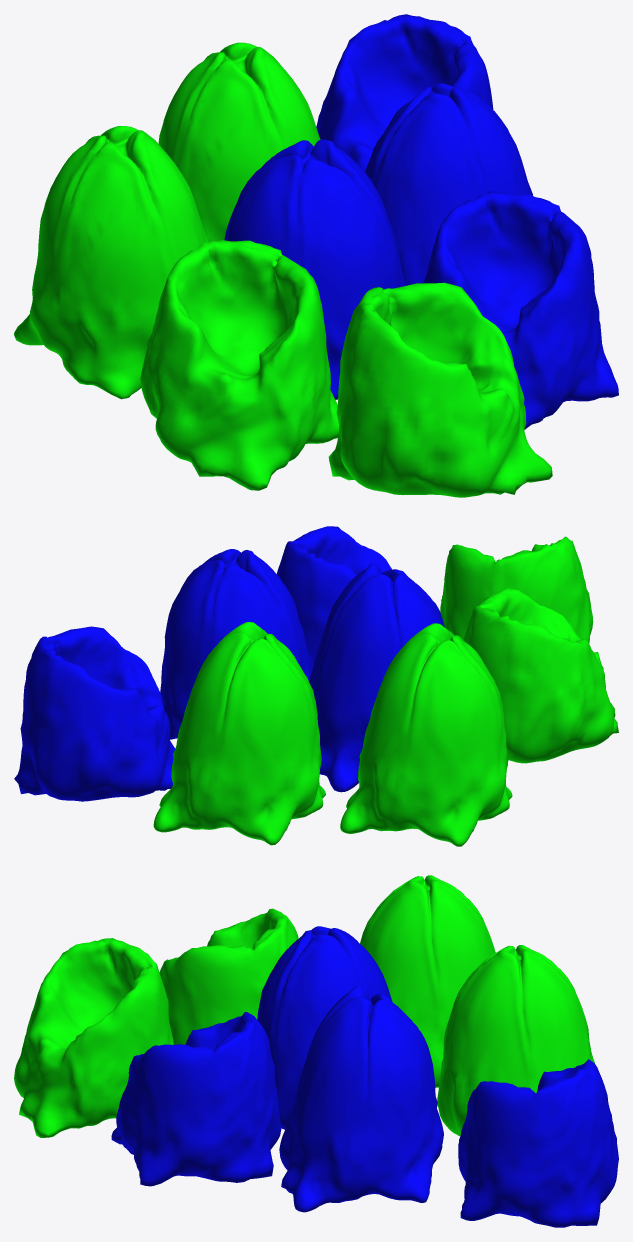
The model's file is World_Nest.fbx.
3 renders of one model, top to bottom at view 1: azimuth 30°, elevation 25°; view 2: azimuth 150°, elevation 25°; view 3: azimuth 270°, elevation 25°, orthographic. The views are drawn at different scales.
Parts seen in each view (by area): view 1: World_Nest; view 2: World_Nest; view 3: World_Nest.
Boxes of the visible parts, x1=… form: World_Nest: x1=14, y1=14, x2=618, y2=497; World_Nest: x1=14, y1=526, x2=618, y2=846; World_Nest: x1=14, y1=875, x2=618, y2=1227.
Bounding box in the file's own units: 3.61 × 1.51 × 4.4.
